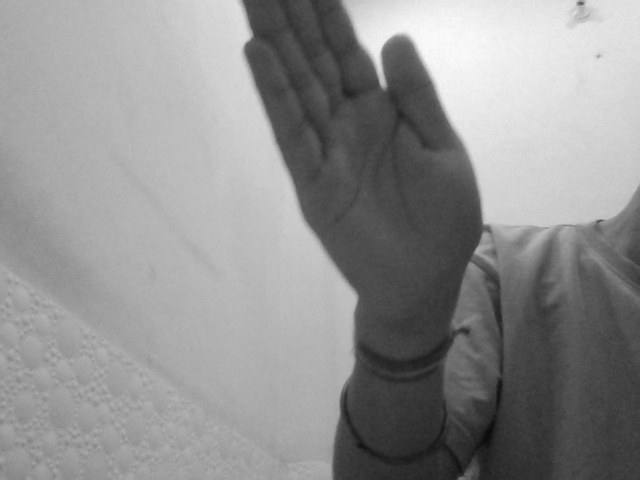Hello: (219, 2, 507, 332)
